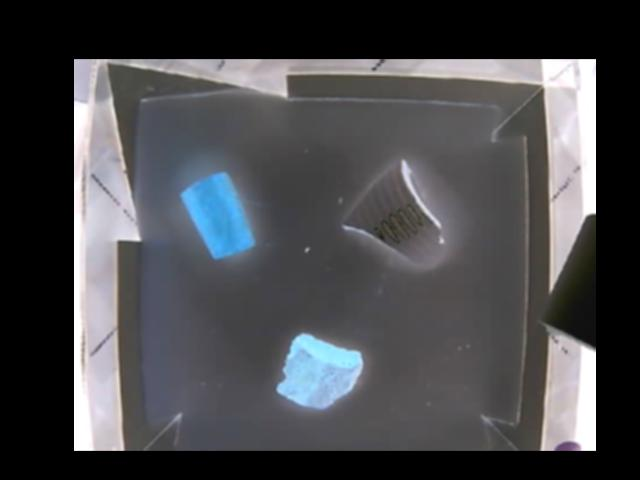Brisk: (274, 332, 365, 412)
Carrot: (179, 170, 255, 260)
China: (341, 159, 446, 268)
